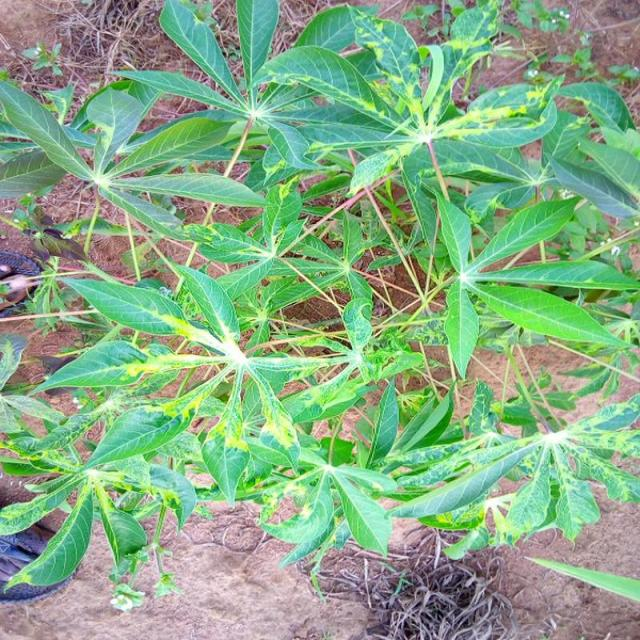cassava leaf: (0, 1, 638, 604)
